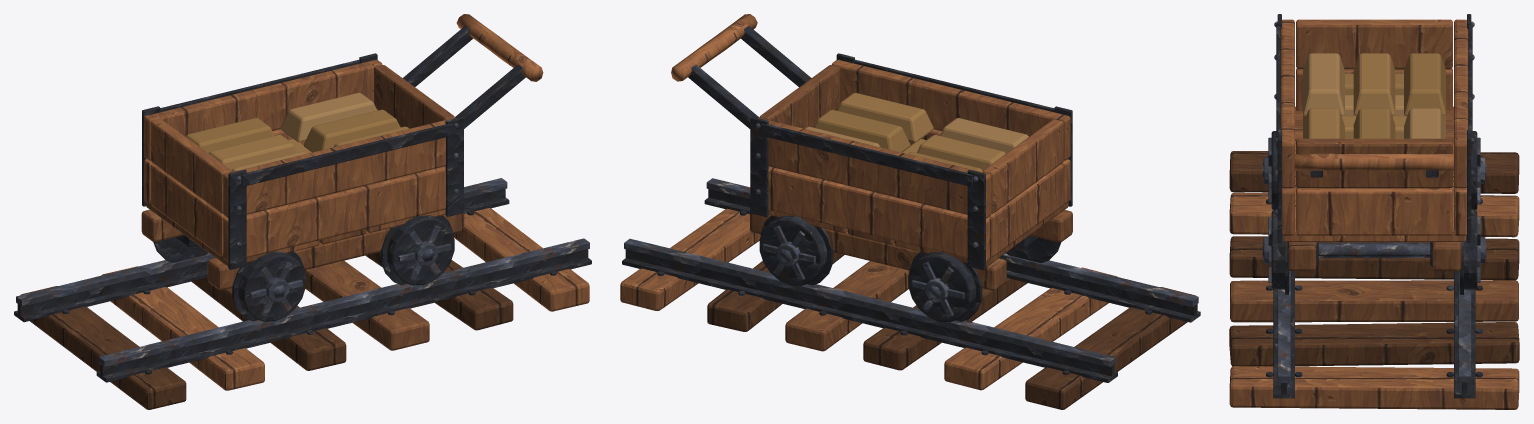
File: hw_ingot_cart.glb
3 views of the same model, side by side, from view 1: azimuth 30°, elevation 25°; view 2: azimuth 150°, elevation 25°; view 3: azimuth 270°, elevation 25° (orthographic). The views are drawn at different scales.
Parts seen in each view (by area): view 1: model; view 2: model; view 3: model.
Boxes of the visible parts, x1,y1,x2,y2 form: model: (14, 14, 591, 409); model: (620, 14, 1200, 409); model: (1229, 14, 1519, 409).
Size of the model in its own units: 1.7 by 0.7396 by 0.8034.
9 materials, 6 textured.
